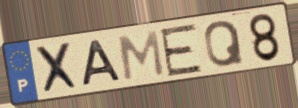8: (247, 12, 282, 63)
A: (81, 38, 125, 89)
E: (158, 21, 205, 78)
M: (116, 28, 167, 82)
Q: (203, 19, 246, 70)
X: (32, 40, 83, 96)
